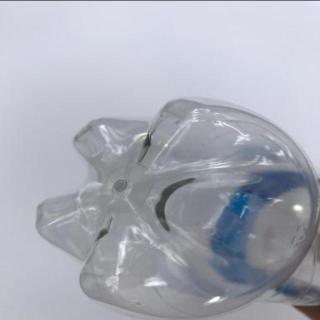Anorganik: (29, 92, 320, 320)
